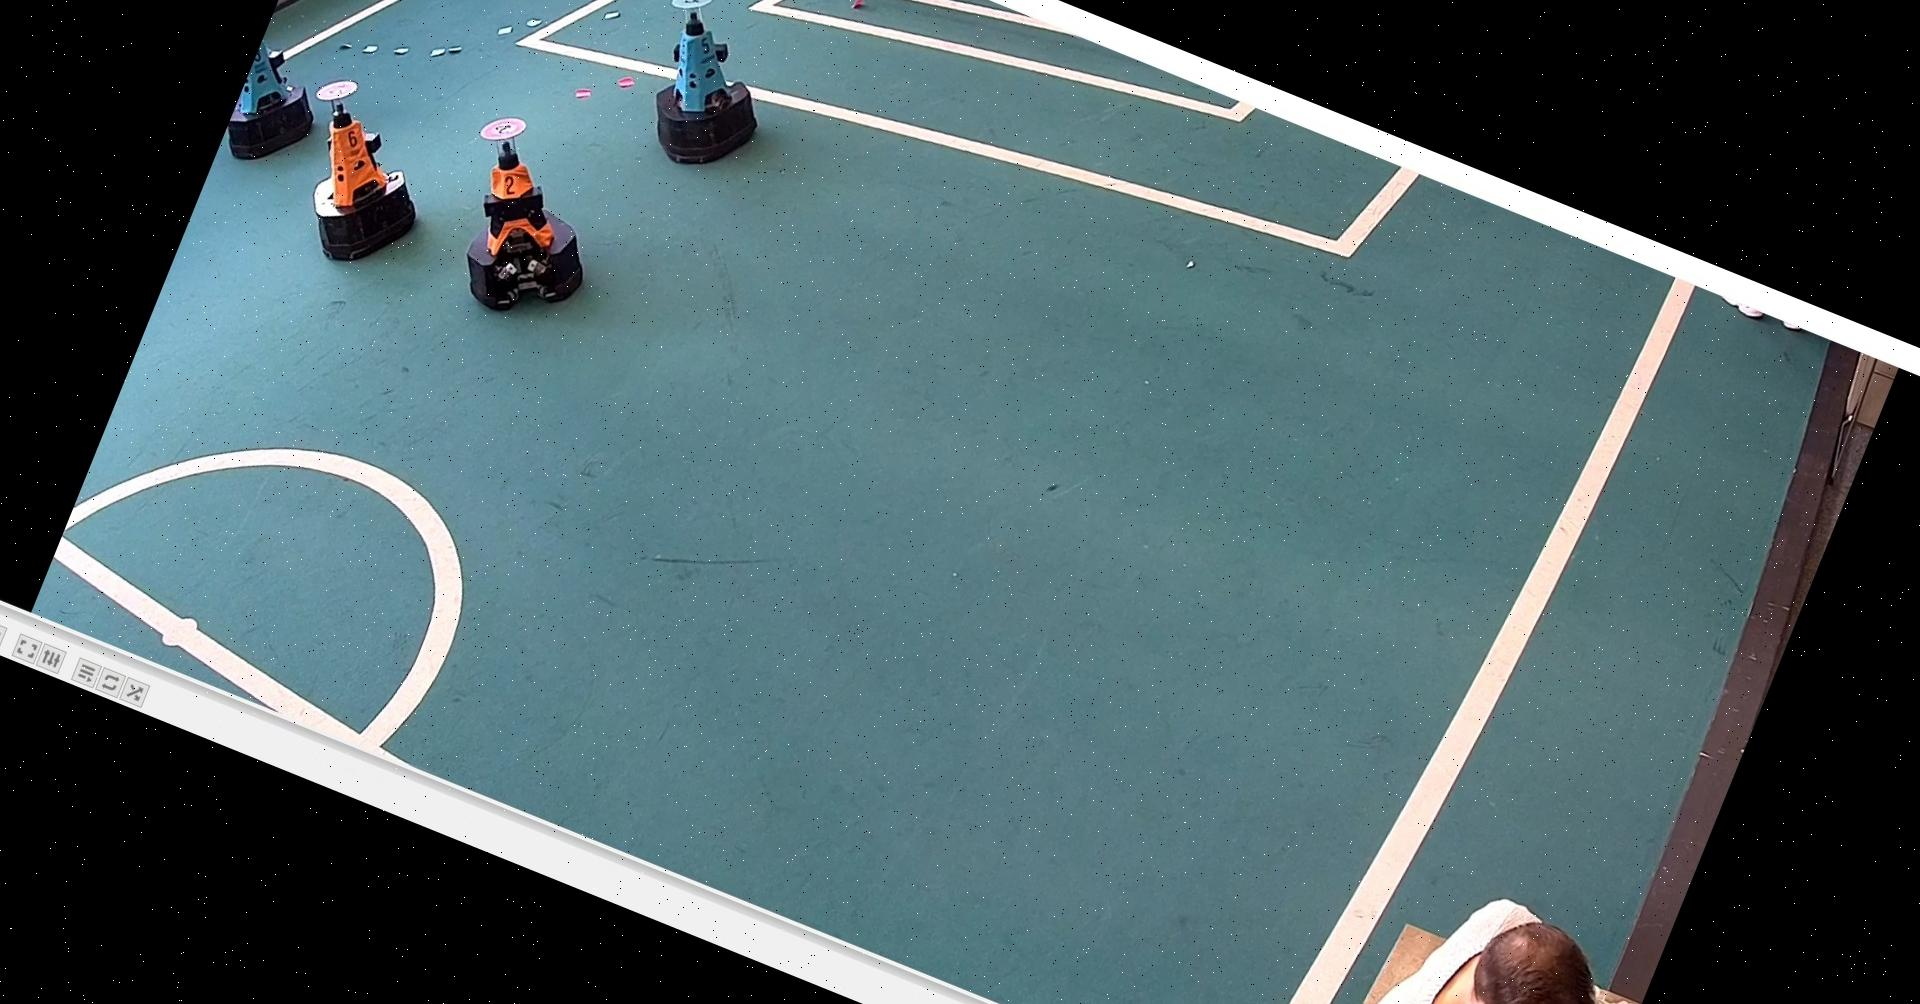Team_Blue: (612, 0, 811, 190), (216, 24, 358, 187)
Team_Red: (419, 98, 637, 339), (262, 67, 453, 281)
